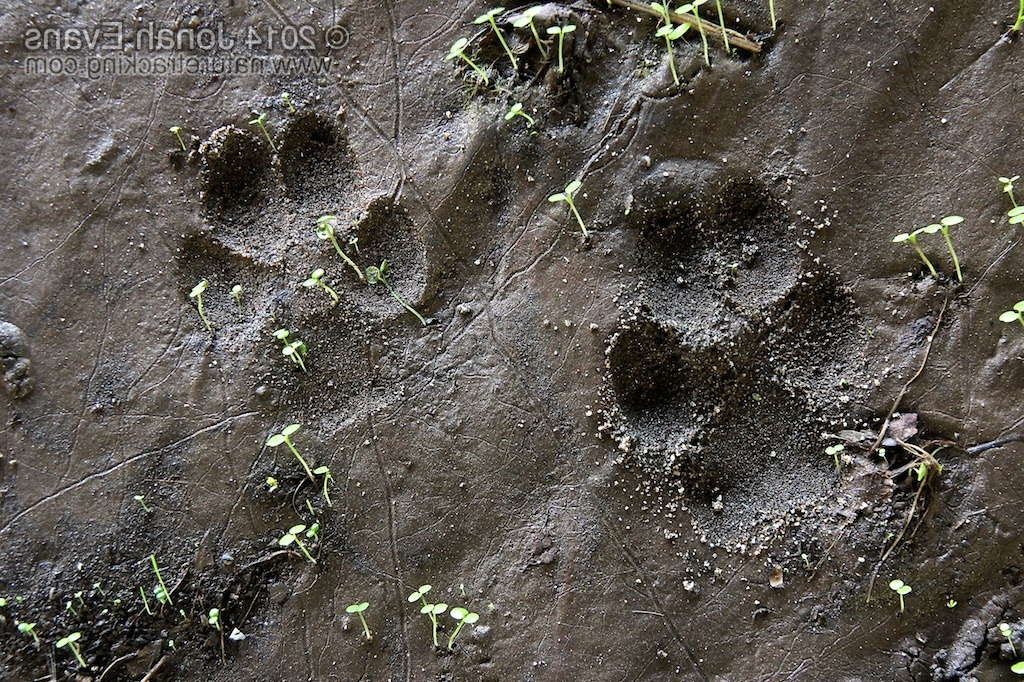coyote: (594, 163, 875, 556), (169, 116, 426, 438)
